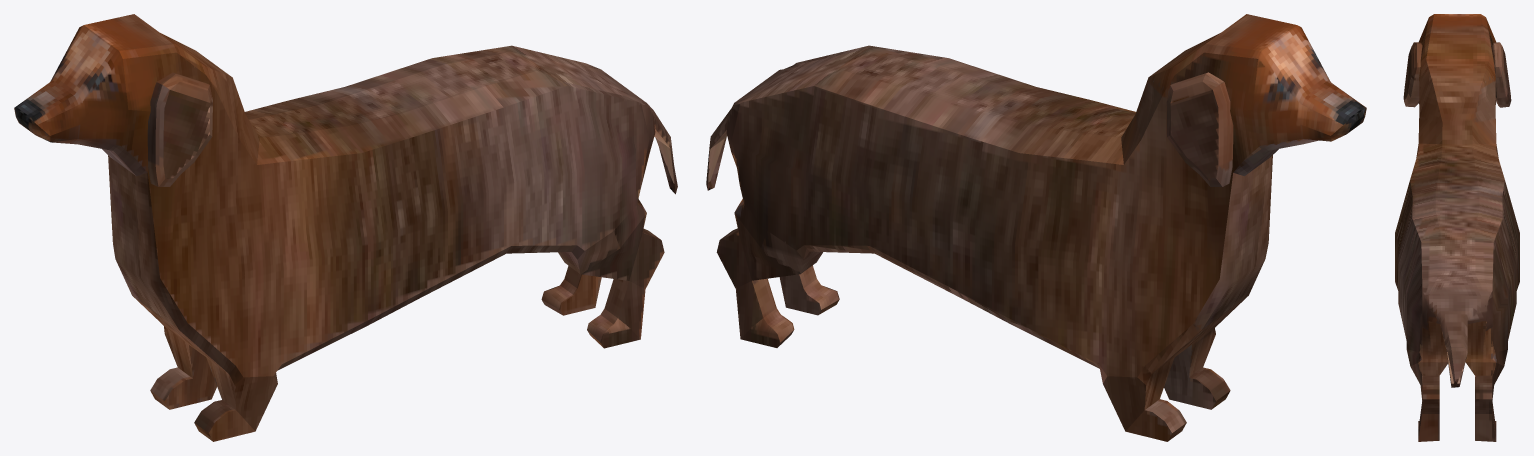
File: funnydog.obj
The picture shows the model from 3 angles, left to right: view 1: azimuth 30°, elevation 25°; view 2: azimuth 150°, elevation 25°; view 3: azimuth 270°, elevation 25°; orthographic projection. The views are drawn at different scales.
Visible parts, largest first — view 1: body, ear1; view 2: body, ear2; view 3: body, ear1, ear2.
Boxes of the visible parts, bbox=[...] form: body: bbox=[14, 14, 677, 441]; ear1: bbox=[147, 72, 212, 186]; body: bbox=[706, 14, 1366, 441]; ear2: bbox=[1166, 72, 1233, 186]; body: bbox=[1395, 14, 1519, 441]; ear1: bbox=[1403, 42, 1422, 107]; ear2: bbox=[1492, 42, 1511, 107].
Bounding box in the file's own units: 6.76 × 4 × 1.7.
Materials: 1 (1 with a texture image).
